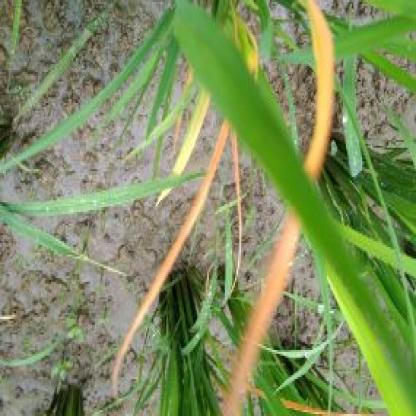Tungro: (254, 33, 339, 400)
